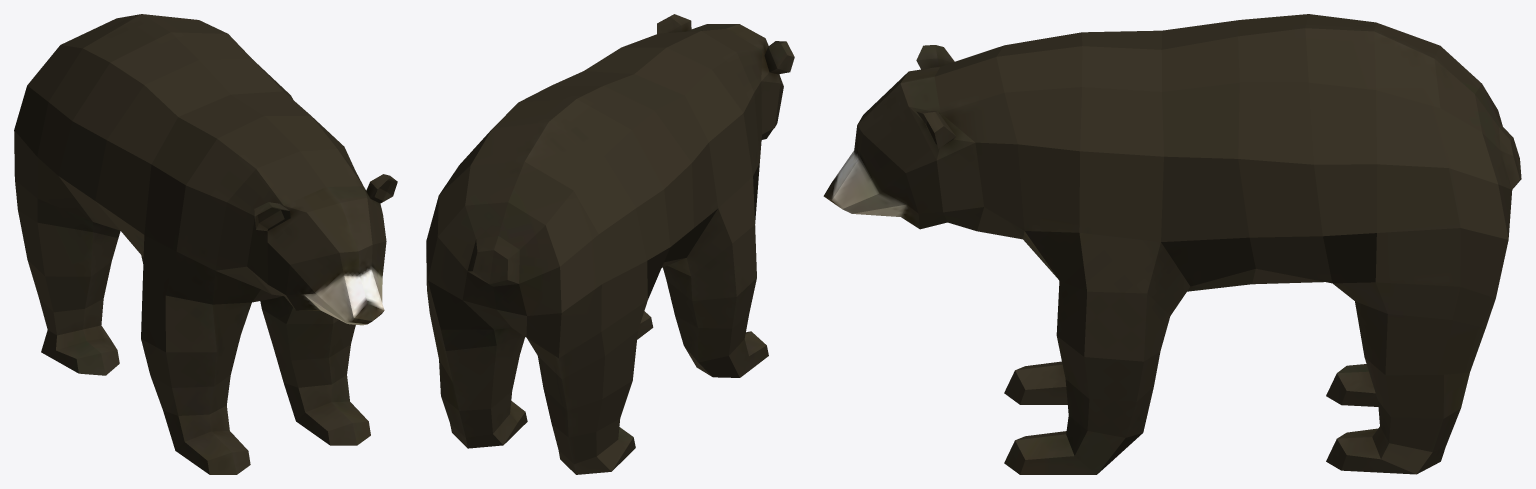
Rendered from animals-black-bear-020.glb.
The picture shows the model from 3 angles, left to right: view 1: azimuth 30°, elevation 25°; view 2: azimuth 150°, elevation 25°; view 3: azimuth 270°, elevation 25°; orthographic projection. The views are drawn at different scales.
Visible parts, largest first — view 1: BlackBear_mesh; view 2: BlackBear_mesh; view 3: BlackBear_mesh.
Boxes of the visible parts, x1,y1,x2,y2 form: BlackBear_mesh: [14, 14, 397, 474]; BlackBear_mesh: [426, 14, 794, 474]; BlackBear_mesh: [823, 14, 1521, 474].
Size of the model in its own units: 6.68 by 10.22 by 16.13.
Materials: 1 (1 with a texture image).
